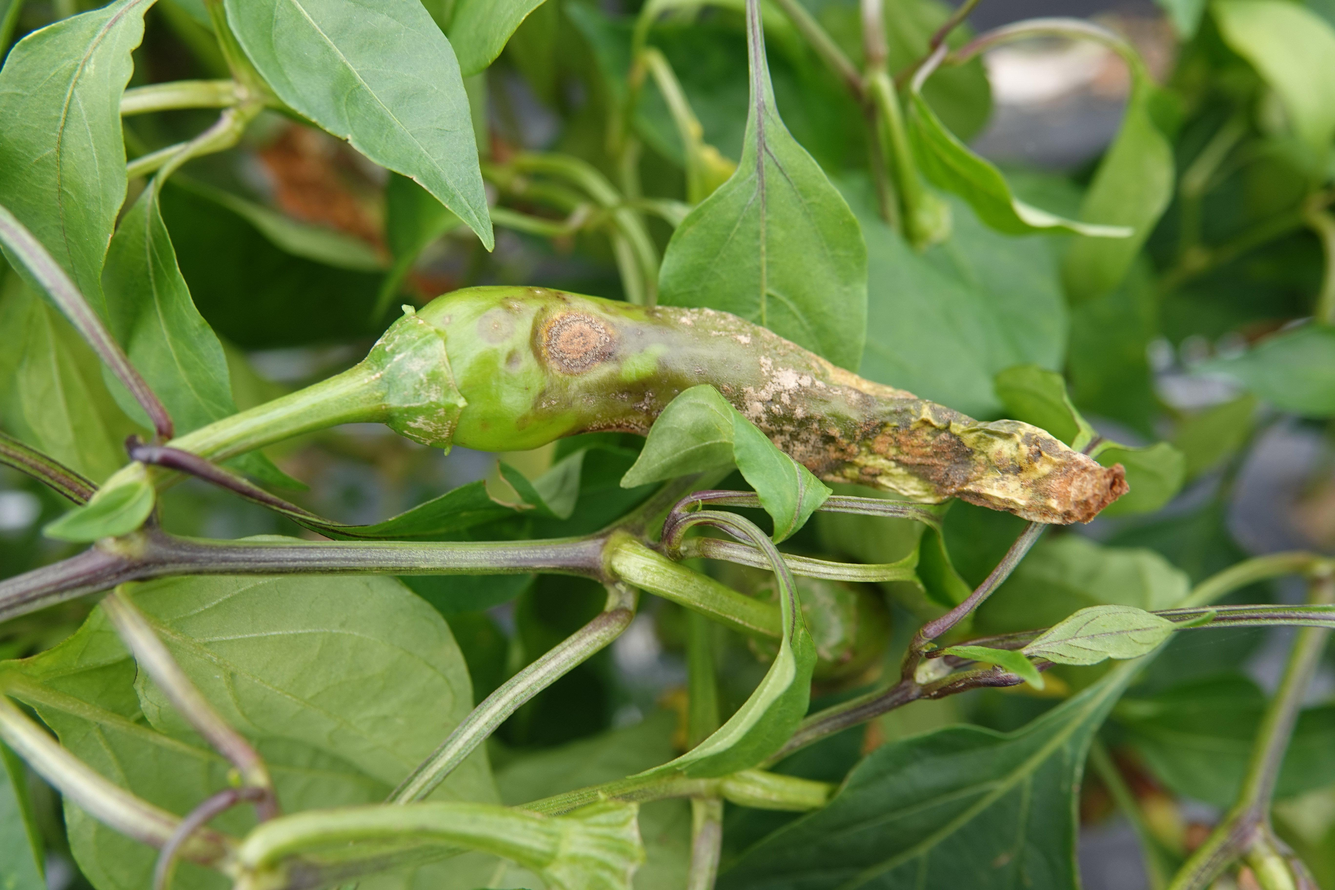Busuk Buah Antraknosa: (371, 277, 1130, 544)
